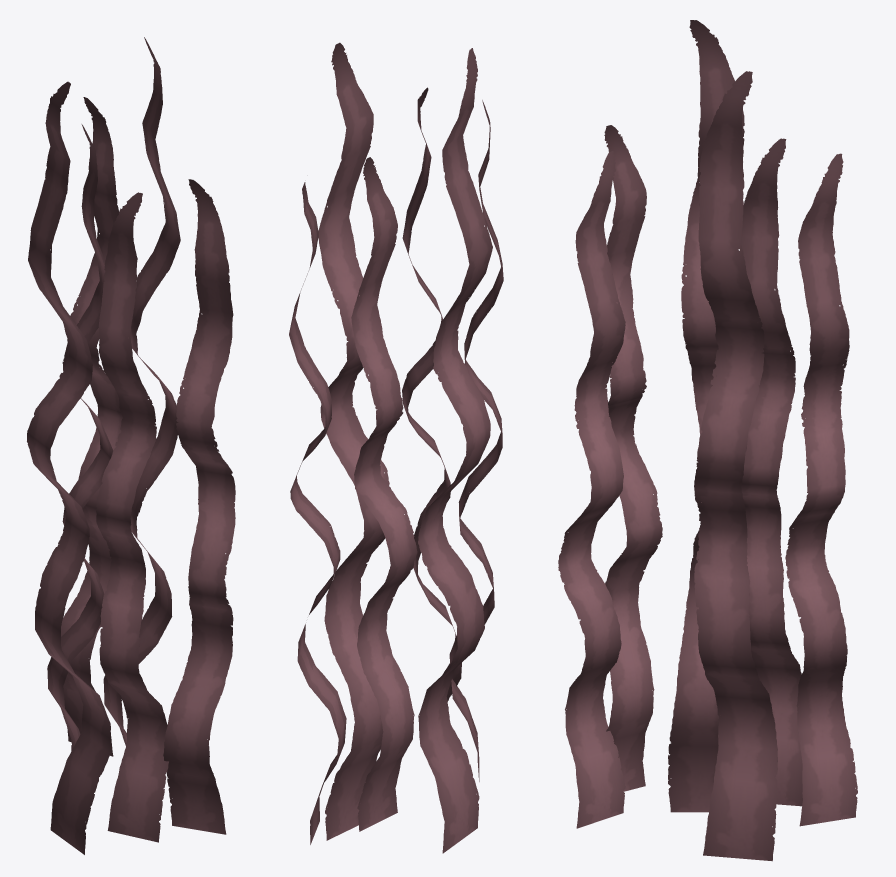
File: Tropics Wavy Kelp.fbx
3 renders of one model, left to right at view 1: azimuth 30°, elevation 25°; view 2: azimuth 150°, elevation 25°; view 3: azimuth 270°, elevation 25°, orthographic. The views are drawn at different scales.
Parts seen in each view (by area): view 1: Wavy Kelp Small; view 2: Wavy Kelp Small; view 3: Wavy Kelp Small.
Part boxes in pixels (x1,y1,x2,y2): Wavy Kelp Small: (27, 37, 235, 854); Wavy Kelp Small: (289, 42, 503, 853); Wavy Kelp Small: (558, 20, 857, 861).
Bounding box in the file's own units: 304 × 1503 × 579.
